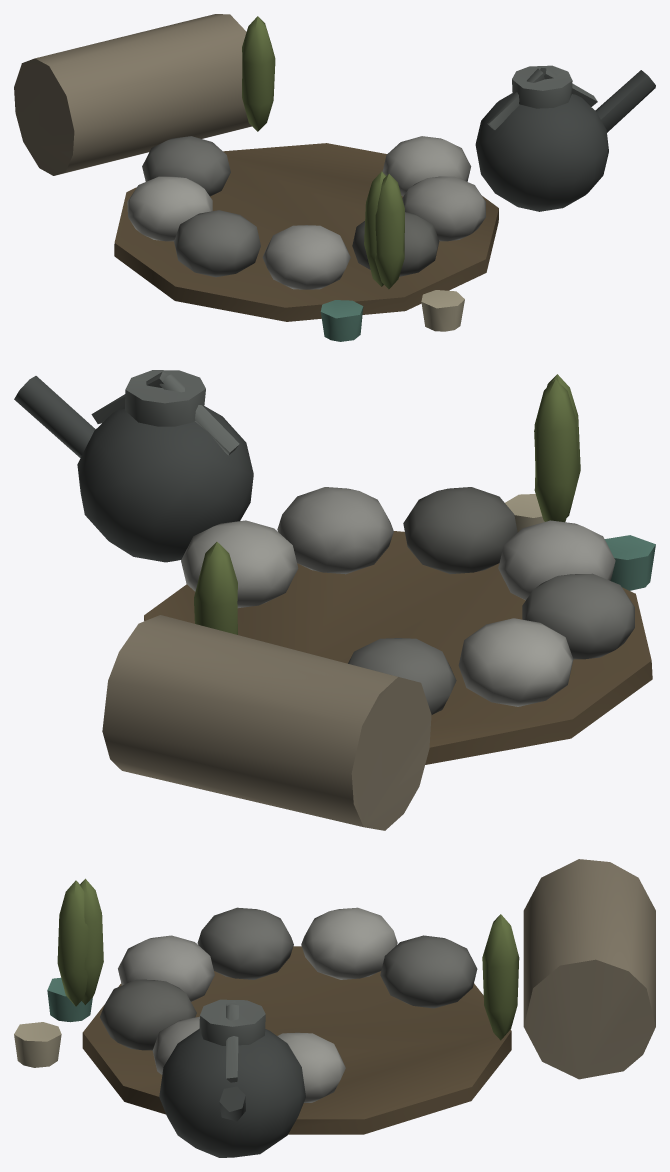
File: tea_hearth_c_lod1.glb
3 views of the same model, one above another, from view 1: azimuth 30°, elevation 25°; view 2: azimuth 150°, elevation 25°; view 3: azimuth 270°, elevation 25° (orthographic). The views are drawn at different scales.
Visible parts, largest first — view 1: Surface.001; view 2: Surface.001; view 3: Surface.001.
Boxes of the visible parts, bbox=[...] form: Surface.001: bbox=[14, 14, 655, 341]; Surface.001: bbox=[14, 370, 655, 830]; Surface.001: bbox=[14, 859, 655, 1157].
Size of the model in its own units: 2.8 by 0.8157 by 2.97.
